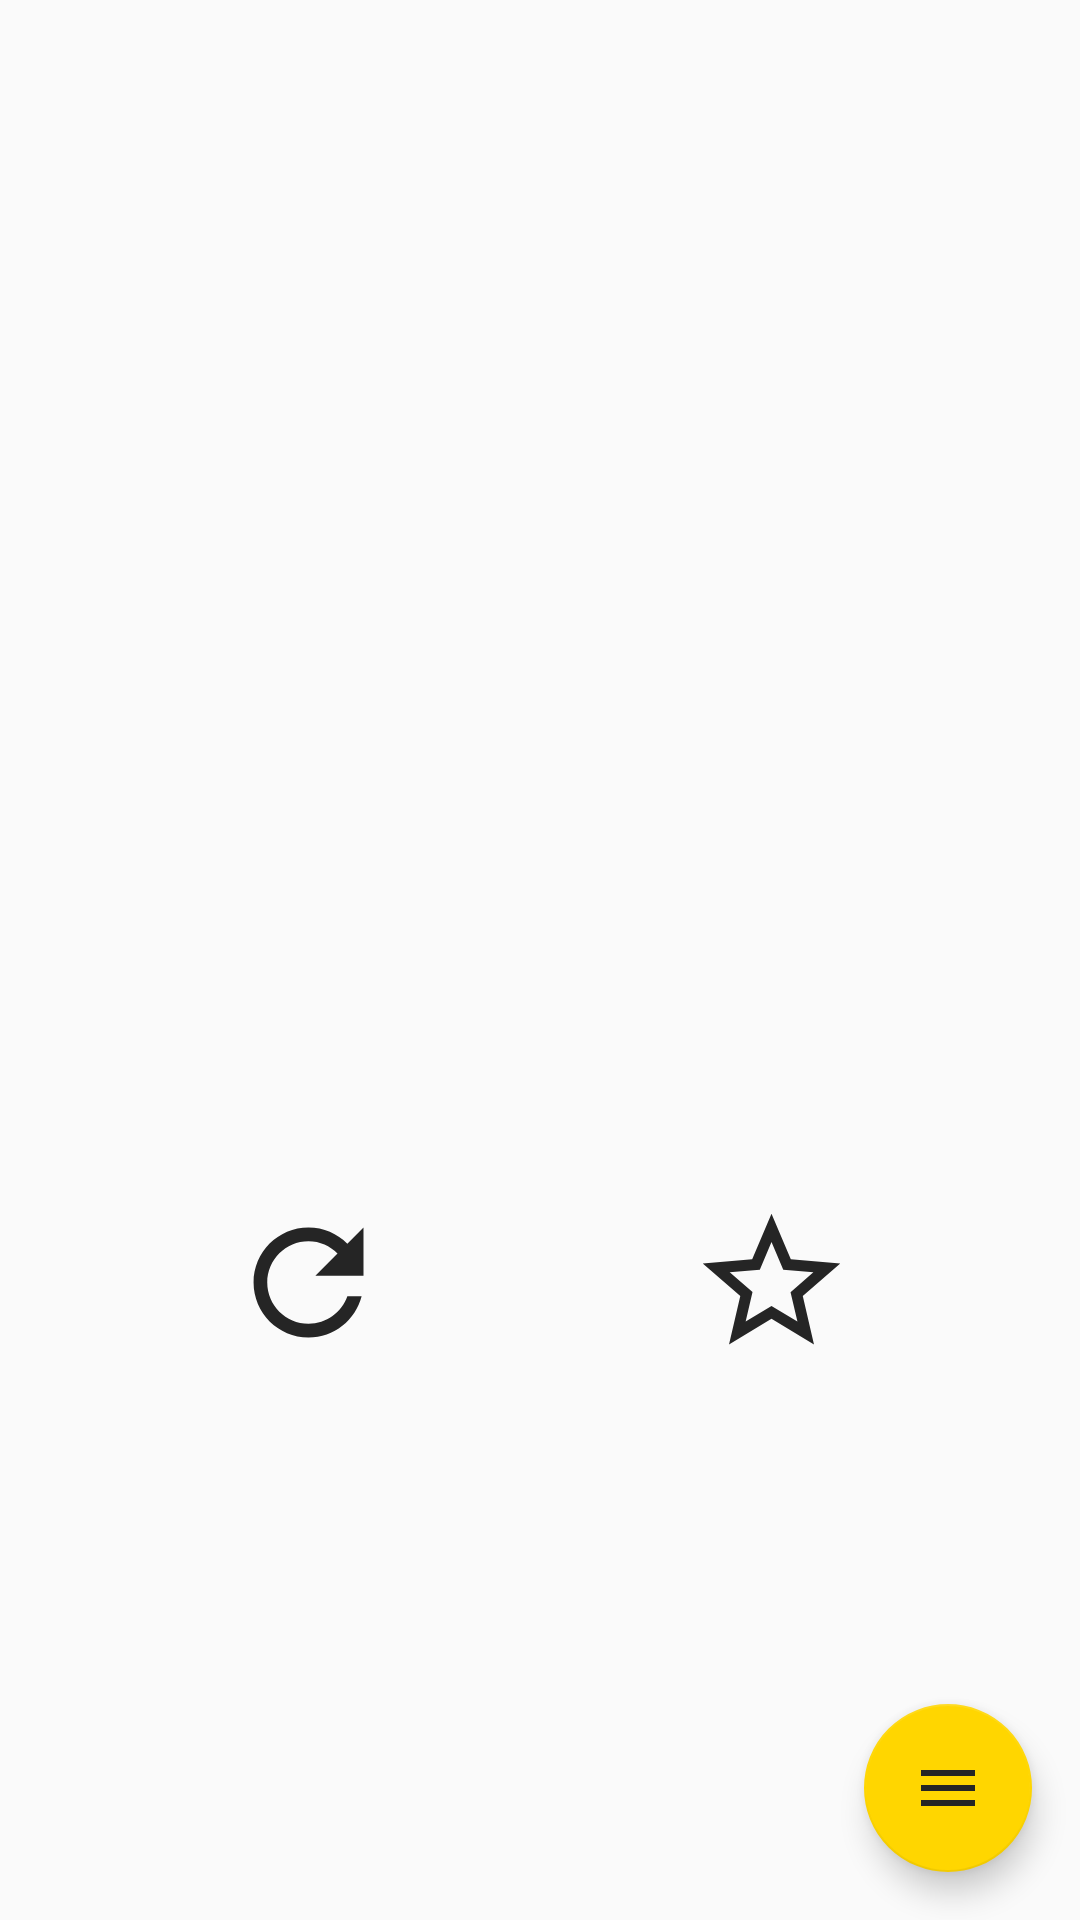

Screen size 1080×1920. Icon name, then its box in pixels as [left=x1, top=y1, right=x2, bottom=y2]:
Load another joke: [left=253, top=1227, right=364, bottom=1338]
Set joke as favorite: [left=703, top=1214, right=840, bottom=1345]
Show joke list: [left=864, top=1704, right=1032, bottom=1872]
